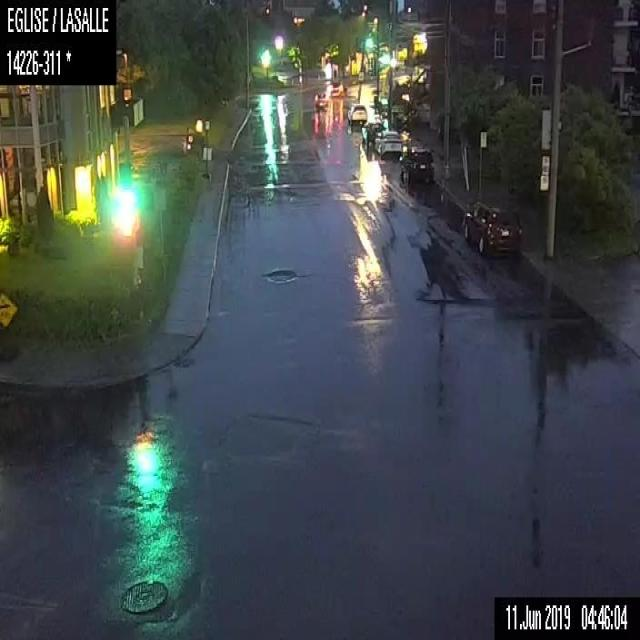vehicle: (460, 198, 521, 254), (399, 144, 434, 189), (374, 128, 404, 158), (359, 118, 384, 148), (346, 102, 366, 128), (312, 85, 330, 107), (330, 80, 344, 96)
